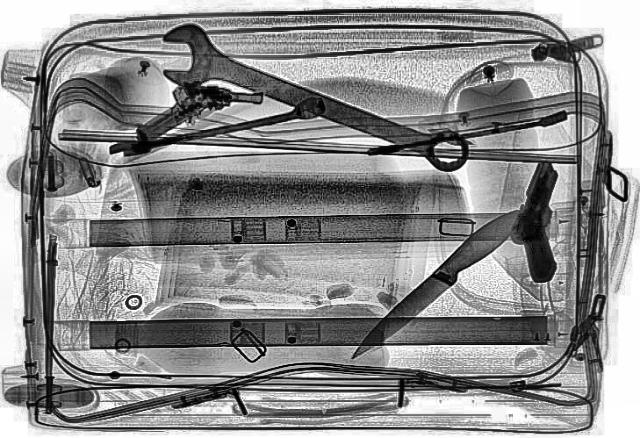Gun: (113, 60, 269, 160), (491, 159, 599, 283)
Knife: (335, 201, 535, 363)
Wrench: (133, 18, 493, 182)
